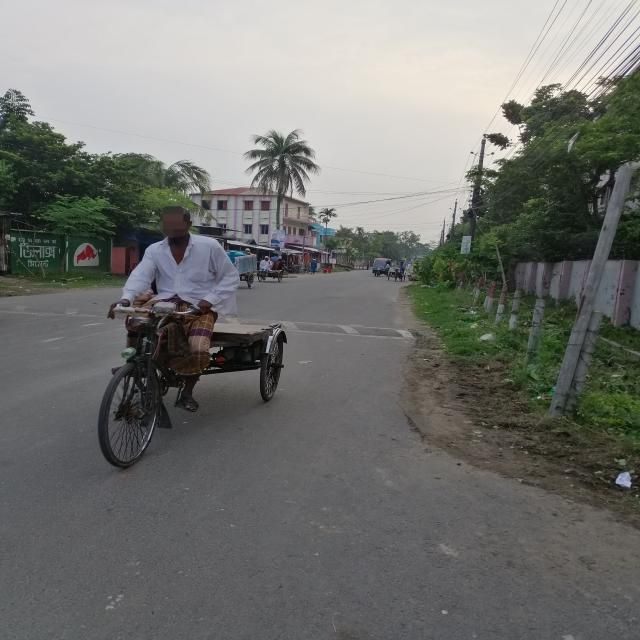Van: (82, 321, 291, 472)
